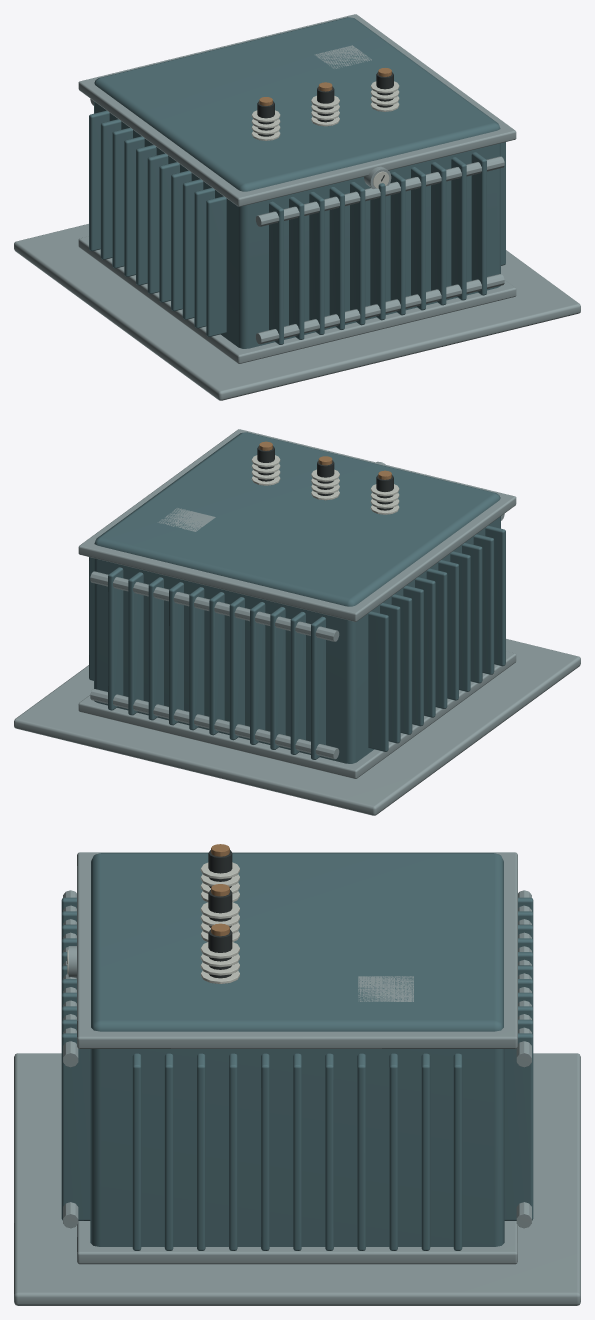
Rendered from HF2_TransformerBank.fbx.
The picture shows the model from 3 angles, top to bottom: view 1: azimuth 30°, elevation 25°; view 2: azimuth 150°, elevation 25°; view 3: azimuth 270°, elevation 25°; orthographic projection. The views are drawn at different scales.
Parts seen in each view (by area): view 1: HF2_TransformerBank; view 2: HF2_TransformerBank; view 3: HF2_TransformerBank.
Boxes of the visible parts, bbox=[...] form: HF2_TransformerBank: bbox=[14, 14, 580, 400]; HF2_TransformerBank: bbox=[14, 429, 580, 815]; HF2_TransformerBank: bbox=[14, 844, 580, 1305].
Size of the model in its own units: 536 by 308 by 530.
